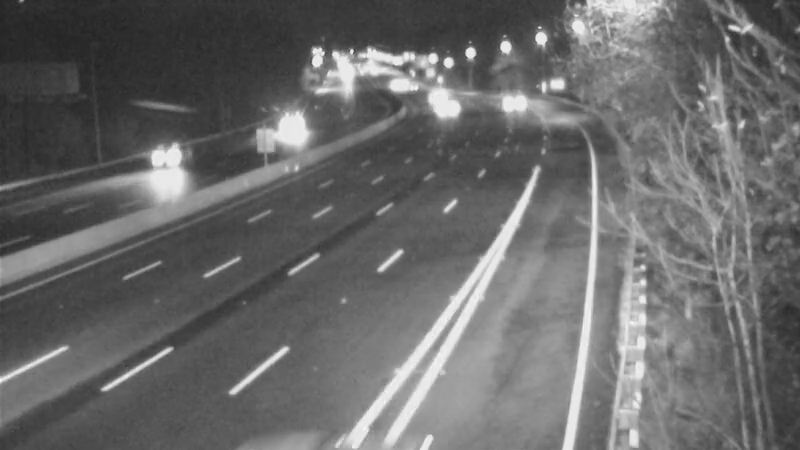vehicle: (129, 122, 209, 202), (367, 60, 417, 110), (404, 69, 454, 119), (480, 77, 530, 127), (420, 85, 470, 135), (266, 101, 316, 151)
